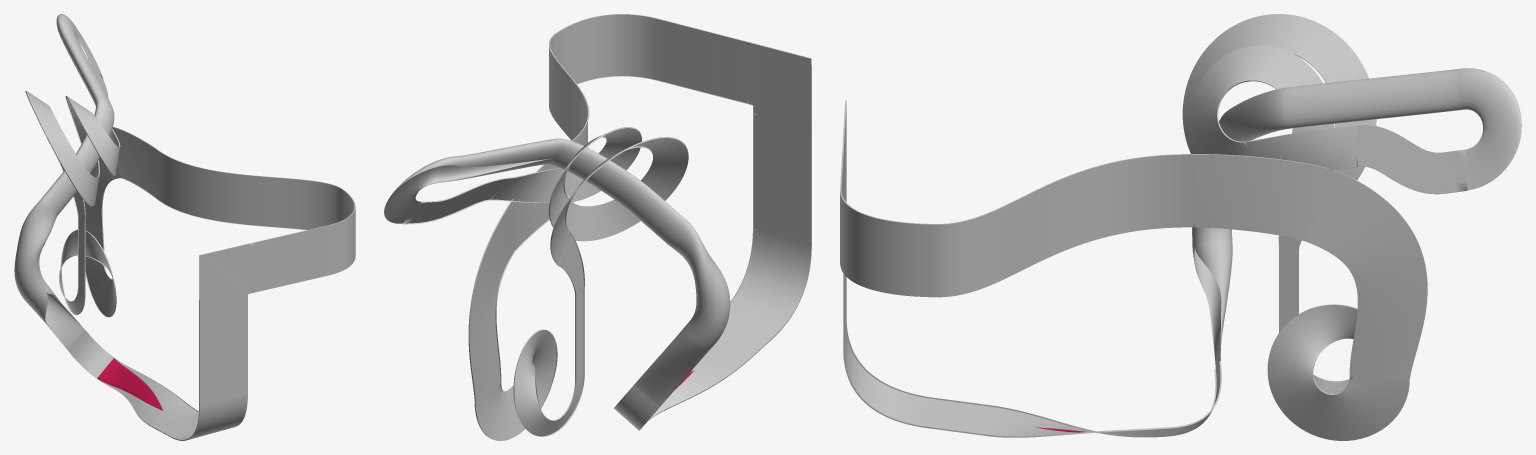
File: track.obj
The picture shows the model from 3 angles, left to right: view 1: azimuth 30°, elevation 25°; view 2: azimuth 150°, elevation 25°; view 3: azimuth 270°, elevation 25°; orthographic projection. The views are drawn at different scales.
Parts seen in each view (by area): view 1: MXTRoadSegment.064_PreviewMesh, MXTRoadSegment.051_PreviewMesh, MXTRoadSegment.061_PreviewMesh, MXTRoadSegment.007_PreviewMesh, MXTRoadSegment.067_PreviewMesh, MXTRoadSegment.040_PreviewMesh, MXTRoadSegment.070_PreviewMesh, MXTRoadSegment.058_PreviewMesh, MXTRoadSegment.080_PreviewMesh, MXTRoadSegment.075_PreviewMesh, MXTRoadSegment.043_PreviewMesh, MXTRoadSegment.030_PreviewMesh (+4 smaller); view 2: MXTRoadSegment.064_PreviewMesh, MXTRoadSegment.007_PreviewMesh, MXTRoadSegment.061_PreviewMesh, MXTRoadSegment.067_PreviewMesh, MXTRoadSegment.058_PreviewMesh, MXTRoadSegment.070_PreviewMesh, MXTRoadSegment.051_PreviewMesh, MXTRoadSegment.040_PreviewMesh, MXTRoadSegment.034_PreviewMesh, MXTRoadSegment.030_PreviewMesh, MXTRoadSegment.043_PreviewMesh, MXTRoadSegment.075_PreviewMesh (+6 smaller); view 3: MXTRoadSegment.064_PreviewMesh, MXTRoadSegment.067_PreviewMesh, MXTRoadSegment.007_PreviewMesh, MXTRoadSegment.070_PreviewMesh, MXTRoadSegment.030_PreviewMesh, MXTRoadSegment.051_PreviewMesh, MXTRoadSegment.024_PreviewMesh, MXTRoadSegment.015_PreviewMesh, MXTRoadSegment.012_PreviewMesh, MXTRoadSegment.058_PreviewMesh, MXTRoadSegment.043_PreviewMesh, MXTRoadSegment.034_PreviewMesh (+3 smaller).
Boxes of the visible parts, x1=… form: MXTRoadSegment.064_PreviewMesh: x1=156, y1=149, x2=355, y2=292; MXTRoadSegment.051_PreviewMesh: x1=68, y1=330, x2=198, y2=437; MXTRoadSegment.061_PreviewMesh: x1=199, y1=300, x2=247, y2=404; MXTRoadSegment.007_PreviewMesh: x1=25, y1=90, x2=120, y2=206; MXTRoadSegment.067_PreviewMesh: x1=84, y1=126, x2=156, y2=251; MXTRoadSegment.040_PreviewMesh: x1=14, y1=198, x2=57, y2=303; MXTRoadSegment.070_PreviewMesh: x1=59, y1=229, x2=116, y2=317; MXTRoadSegment.058_PreviewMesh: x1=171, y1=393, x2=247, y2=440; MXTRoadSegment.080_PreviewMesh: x1=199, y1=242, x2=253, y2=294; MXTRoadSegment.075_PreviewMesh: x1=199, y1=255, x2=247, y2=311; MXTRoadSegment.043_PreviewMesh: x1=26, y1=285, x2=84, y2=349; MXTRoadSegment.030_PreviewMesh: x1=58, y1=25, x2=111, y2=105; MXTRoadSegment.064_PreviewMesh: x1=549, y1=14, x2=746, y2=202; MXTRoadSegment.007_PreviewMesh: x1=548, y1=127, x2=688, y2=266; MXTRoadSegment.061_PreviewMesh: x1=753, y1=112, x2=811, y2=243; MXTRoadSegment.067_PreviewMesh: x1=468, y1=164, x2=559, y2=401; MXTRoadSegment.058_PreviewMesh: x1=727, y1=228, x2=811, y2=337; MXTRoadSegment.070_PreviewMesh: x1=474, y1=329, x2=584, y2=440; MXTRoadSegment.051_PreviewMesh: x1=614, y1=323, x2=773, y2=430; MXTRoadSegment.040_PreviewMesh: x1=667, y1=221, x2=730, y2=346; MXTRoadSegment.034_PreviewMesh: x1=542, y1=138, x2=651, y2=212; MXTRoadSegment.030_PreviewMesh: x1=439, y1=138, x2=562, y2=181; MXTRoadSegment.043_PreviewMesh: x1=634, y1=323, x2=713, y2=407; MXTRoadSegment.075_PreviewMesh: x1=753, y1=59, x2=811, y2=127; MXTRoadSegment.064_PreviewMesh: x1=840, y1=137, x2=1194, y2=297; MXTRoadSegment.067_PreviewMesh: x1=1194, y1=154, x2=1427, y2=379; MXTRoadSegment.007_PreviewMesh: x1=1182, y1=14, x2=1376, y2=180; MXTRoadSegment.070_PreviewMesh: x1=1267, y1=304, x2=1409, y2=440; MXTRoadSegment.030_PreviewMesh: x1=1284, y1=68, x2=1462, y2=128; MXTRoadSegment.051_PreviewMesh: x1=929, y1=361, x2=1221, y2=437; MXTRoadSegment.024_PreviewMesh: x1=1458, y1=68, x2=1521, y2=190; MXTRoadSegment.015_PreviewMesh: x1=1356, y1=125, x2=1445, y2=194; MXTRoadSegment.012_PreviewMesh: x1=1245, y1=125, x2=1358, y2=170; MXTRoadSegment.058_PreviewMesh: x1=843, y1=317, x2=931, y2=428; MXTRoadSegment.043_PreviewMesh: x1=1192, y1=243, x2=1232, y2=368; MXTRoadSegment.034_PreviewMesh: x1=1219, y1=87, x2=1288, y2=141.
Bounding box in the file's own units: 1761 × 2010 × 3060.
